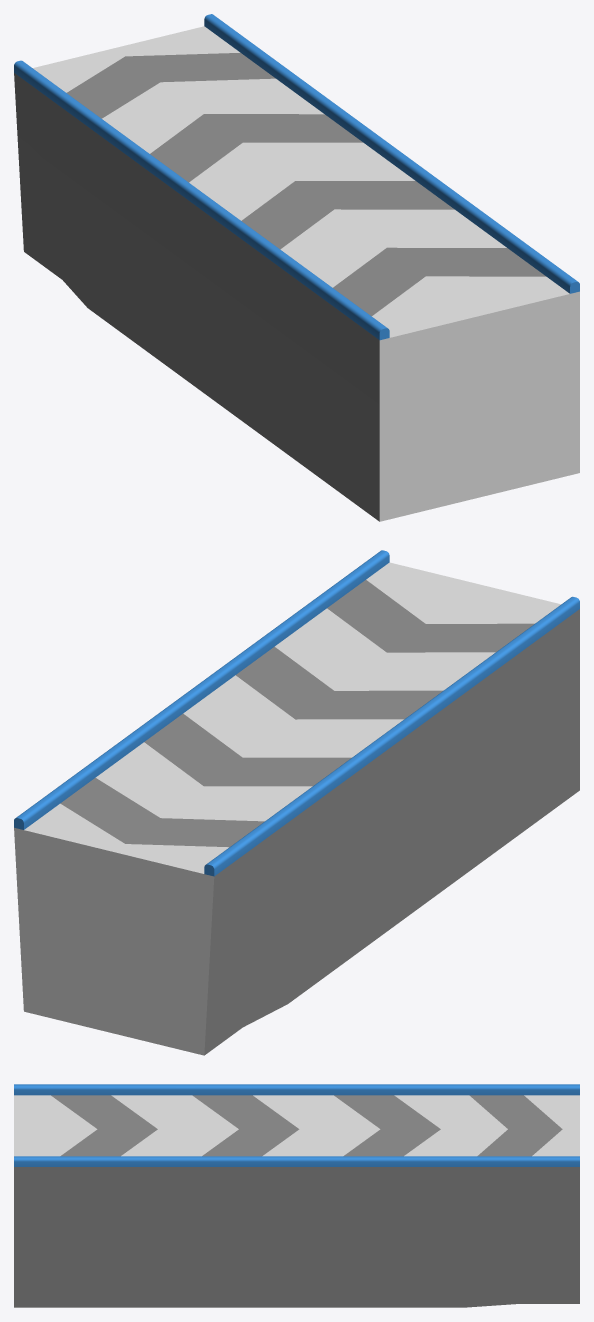
File: TRASS.fbx
3 views of the same model, one above another, from view 1: azimuth 30°, elevation 25°; view 2: azimuth 150°, elevation 25°; view 3: azimuth 270°, elevation 25° (orthographic). The views are drawn at different scales.
Parts seen in each view (by area): view 1: TRASS; view 2: TRASS; view 3: TRASS.
Part boxes in pixels (<box>): TRASS: <box>14,14,579,521</box>; TRASS: <box>14,550,579,1055</box>; TRASS: <box>14,1084,579,1307</box>.
Size of the model in its own units: 340 by 312 by 1076.
